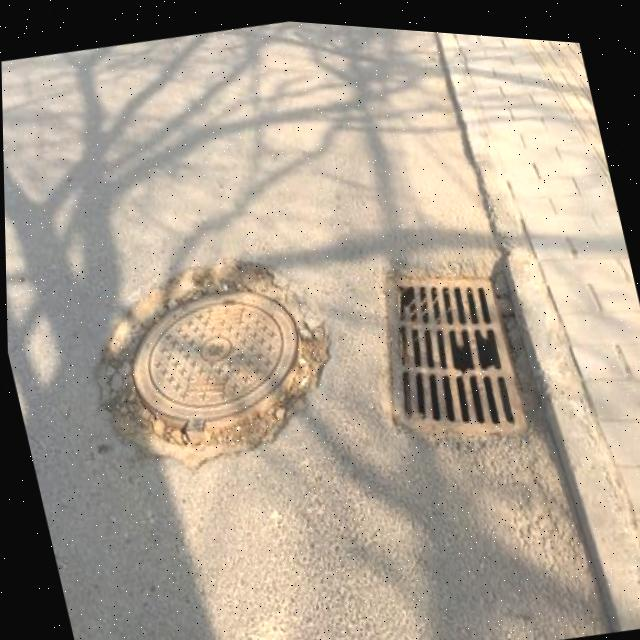manhole: (62, 218, 356, 492), (339, 212, 537, 456)
